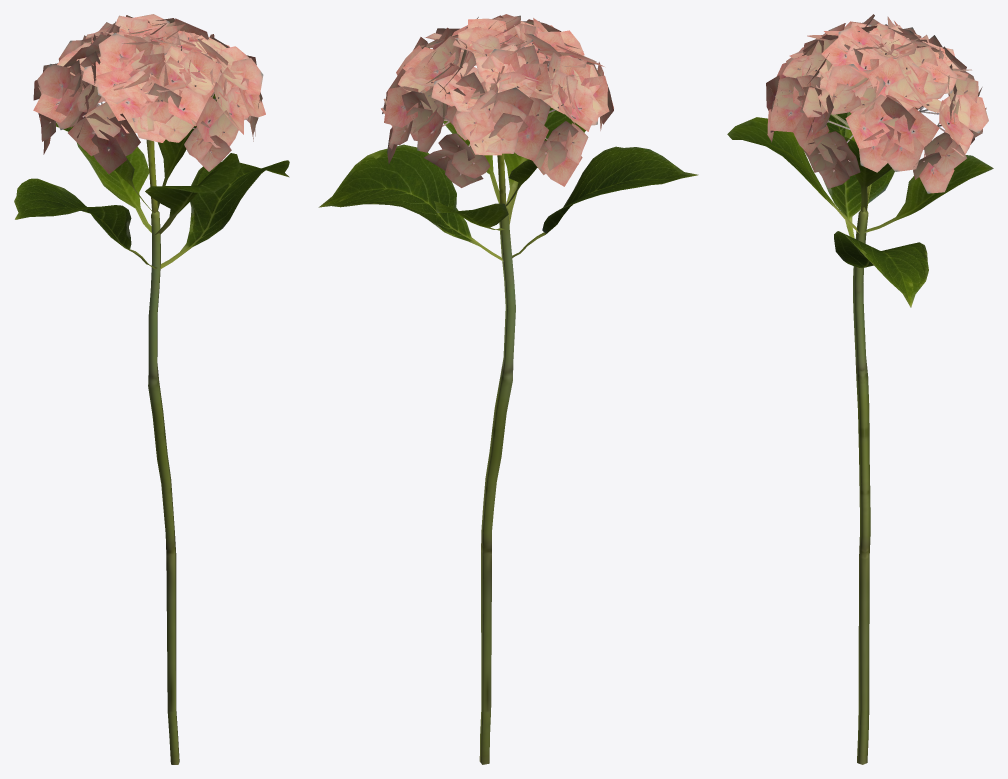
Rendered from Hydrangea_OG_long_peach.glb.
3 views of the same model, side by side, from view 1: azimuth 30°, elevation 25°; view 2: azimuth 150°, elevation 25°; view 3: azimuth 270°, elevation 25° (orthographic). The views are drawn at different scales.
Visible parts, largest first — view 1: Hydrangea; view 2: Hydrangea; view 3: Hydrangea.
Part boxes in pixels (bbox=[...]): Hydrangea: bbox=[14, 14, 289, 764]; Hydrangea: bbox=[318, 14, 698, 764]; Hydrangea: bbox=[727, 14, 993, 764].
Bounding box in the file's own units: 1.38 × 2.99 × 1.
Materials: 1 (1 with a texture image).
